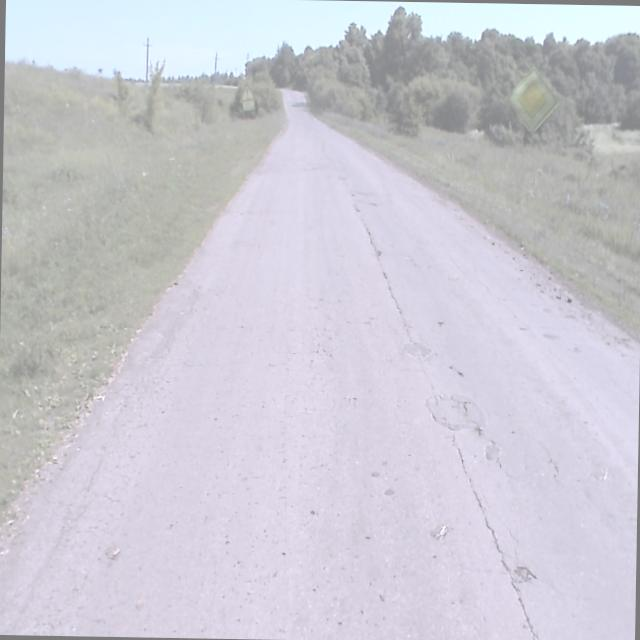road: (0, 88, 639, 640)
